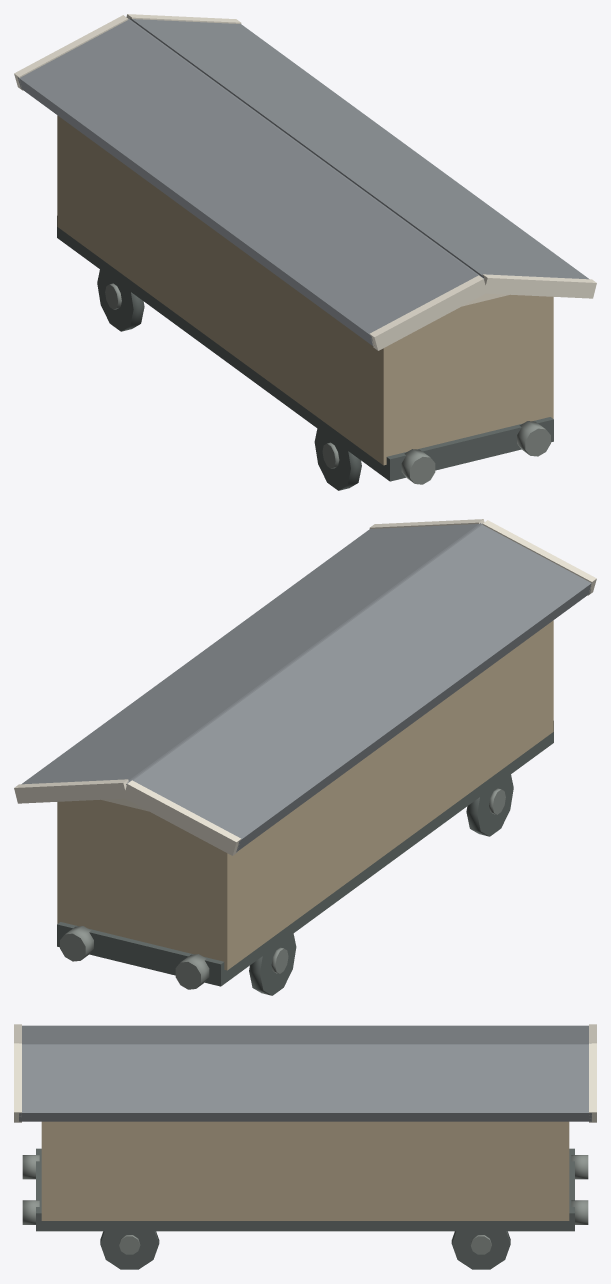
Rendered from tyne-goods_lod1.glb.
3 renders of one model, top to bottom at view 1: azimuth 30°, elevation 25°; view 2: azimuth 150°, elevation 25°; view 3: azimuth 270°, elevation 25°, orthographic. The views are drawn at different scales.
Visible parts, largest first — view 1: RF_GoodsBody, RF_Roof.001, RF_Roof, RF_Chassis, RF_Vergeband.001, RF_Vergeband.003, RF_Wheel.001, RF_Wheel.003, RF_Vergeband.002, RF_Buffer.001, RF_Buffer.002, RF_Ridge; view 2: RF_GoodsBody, RF_Roof.001, RF_Roof, RF_Chassis, RF_Vergeband.002, RF_Vergeband, RF_Wheel.003, RF_Wheel.001, RF_Vergeband.001, RF_Buffer.003, RF_Buffer, RF_Ridge; view 3: RF_Roof, RF_GoodsBody, RF_SlidingDoor, RF_Roof.001, RF_Chassis, RF_Wheel.002, RF_Wheel, RF_Vergeband.003, RF_Vergeband, RF_Buffer.002, RF_Buffer, RF_Buffer.001 (+3 smaller).
Part boxes in pixels (x1,y1,x2,y2): RF_GoodsBody: [57, 115, 553, 465]; RF_Roof.001: [17, 20, 477, 346]; RF_Roof: [130, 18, 589, 279]; RF_Chassis: [57, 216, 553, 481]; RF_Vergeband.001: [369, 275, 487, 350]; RF_Vergeband.003: [482, 274, 596, 298]; RF_Wheel.001: [314, 428, 361, 490]; RF_Wheel.003: [97, 269, 144, 331]; RF_Vergeband.002: [14, 15, 128, 90]; RF_Buffer.001: [401, 449, 435, 484]; RF_Buffer.002: [517, 421, 550, 456]; RF_Ridge: [128, 18, 484, 279]; RF_GoodsBody: [57, 620, 553, 970]; RF_Roof.001: [133, 525, 591, 852]; RF_Roof: [21, 523, 480, 784]; RF_Chassis: [57, 721, 553, 986]; RF_Vergeband.002: [123, 780, 241, 855]; RF_Vergeband: [14, 779, 128, 803]; RF_Wheel.003: [249, 933, 296, 995]; RF_Wheel.001: [466, 774, 513, 836]; RF_Vergeband.001: [482, 520, 596, 595]; RF_Buffer.003: [175, 954, 209, 989]; RF_Buffer: [60, 926, 93, 961]; RF_Ridge: [126, 523, 482, 784]; RF_Roof: [19, 1044, 591, 1121]; RF_GoodsBody: [41, 1121, 569, 1220]; RF_SlidingDoor: [237, 1121, 373, 1220]; RF_Roof.001: [22, 1025, 591, 1044]; RF_Chassis: [36, 1148, 574, 1231]; RF_Wheel.002: [100, 1231, 159, 1269]; RF_Wheel: [451, 1231, 510, 1269]; RF_Vergeband.003: [14, 1043, 21, 1122]; RF_Vergeband: [589, 1043, 596, 1122]; RF_Buffer.002: [22, 1200, 39, 1224]; RF_Buffer: [571, 1200, 588, 1224]; RF_Buffer.001: [22, 1155, 39, 1179].
Size of the model in its own units: 3.66 by 3.79 by 10.28.
